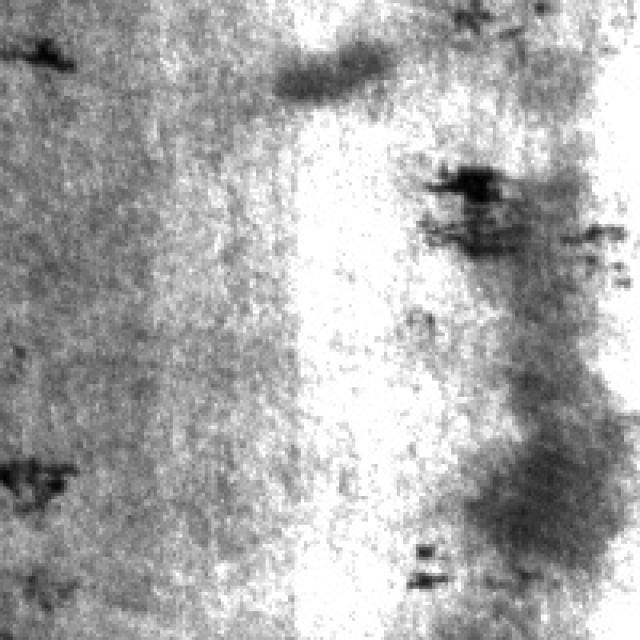inclusion: (426, 147, 534, 256), (6, 22, 96, 80)
patches: (477, 154, 621, 483), (445, 394, 640, 595), (262, 22, 393, 112)
